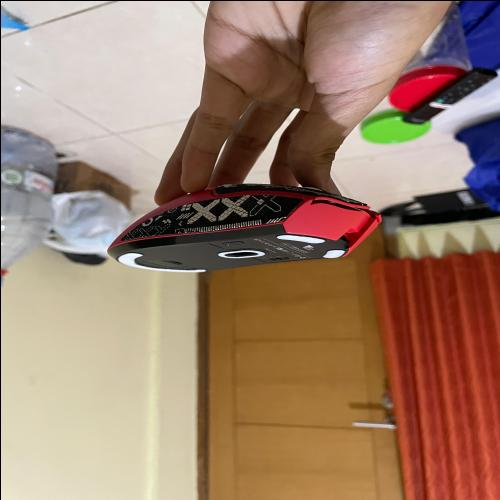Mouse: (94, 171, 392, 285)
